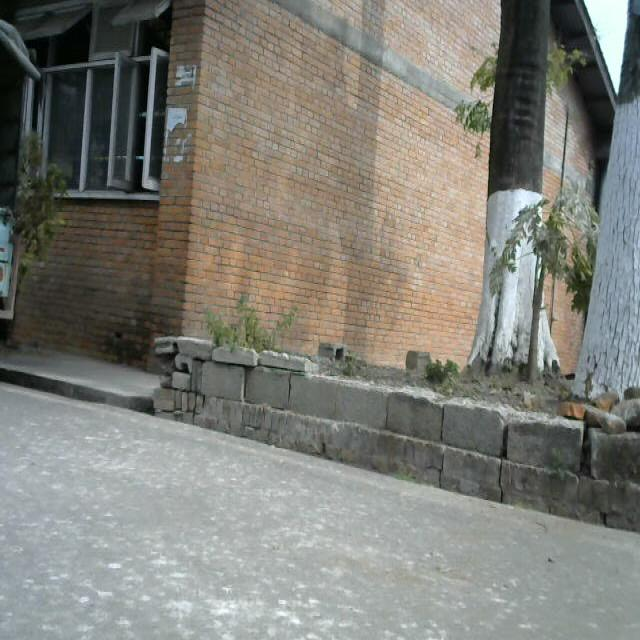Buildings: (2, 3, 494, 314)
Road: (3, 382, 640, 640)
trees: (476, 0, 564, 364)
